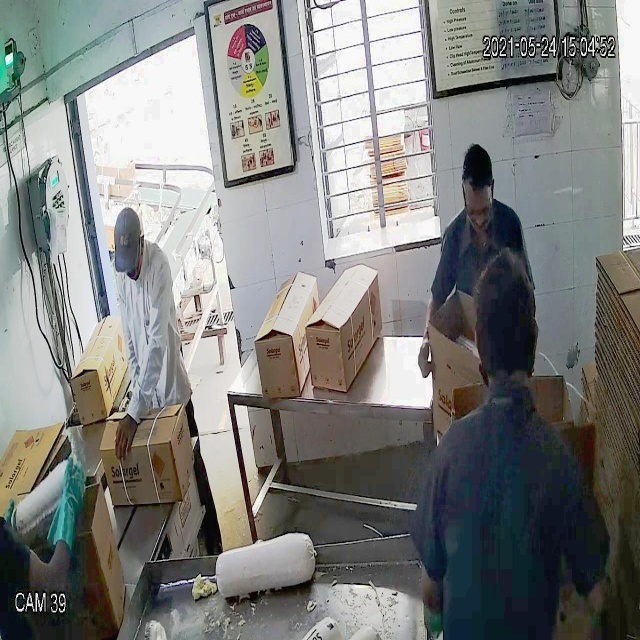Gafas: (462, 186, 496, 227)
